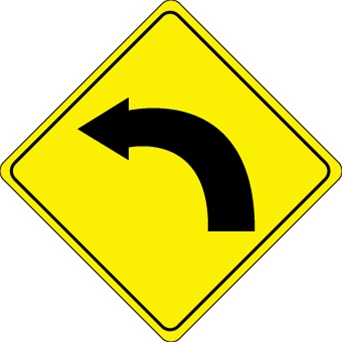left: (74, 96, 260, 239)
